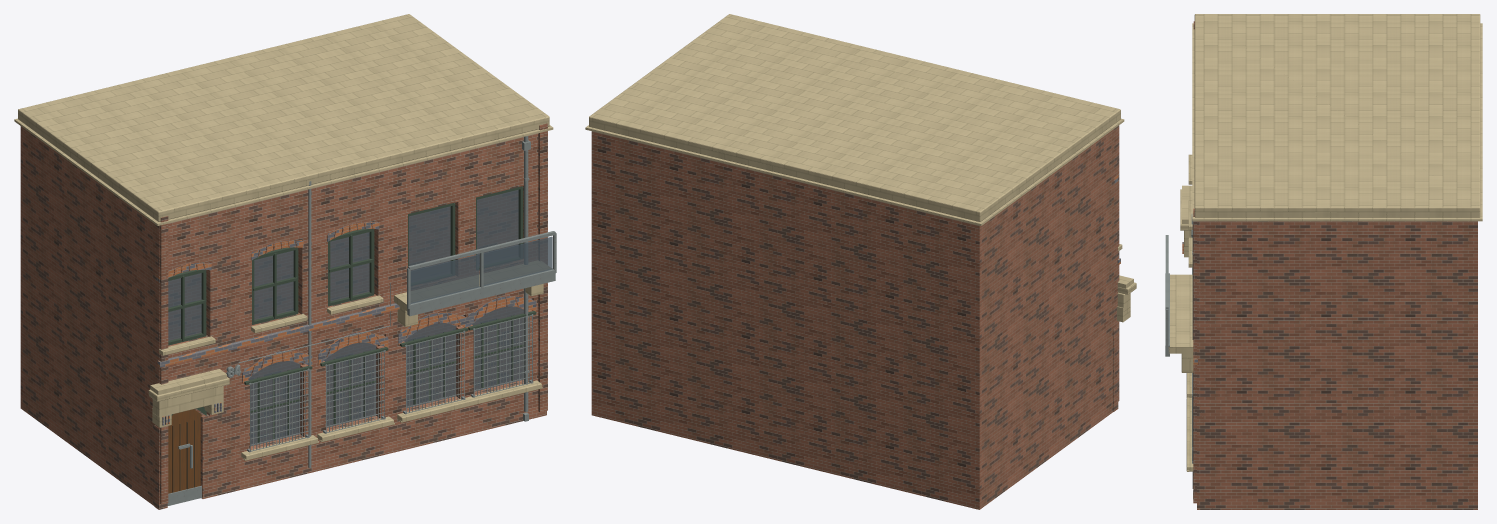
Rendered from come_through_lab.glb.
3 views of the same model, side by side, from view 1: azimuth 30°, elevation 25°; view 2: azimuth 150°, elevation 25°; view 3: azimuth 270°, elevation 25° (orthographic).
Visible parts, largest first — view 1: CTL_Parapet_Cap, CTL_BuildingShell_Rear, CTL_Facade_UpperHead_01, CTL_Facade_Base_02, CTL_Facade_GroundHead_01, CTL_Facade_UpperOpenings_02, CTL_WindowGlass_Ground03, CTL_WindowGlass_Ground04, CTL_WindowGlass_Ground02, CTL_WindowGlass_Ground01, CTL_BalconyDoor_01_Glass, CTL_BalconyDoor_02_Glass (+37 smaller); view 2: CTL_BuildingShell_Rear, CTL_Parapet_Cap, CTL_Parapet_DripLip; view 3: CTL_BuildingShell_Rear, CTL_Parapet_Cap, CTL_Parapet_DripLip, CTL_Balcony_Slab, CTL_Facade_GroundOpenings_06, CTL_Facade_UpperOpenings_06, CTL_EndPier_Right, CTL_Facade_UpperHead_01, CTL_Facade_Base_02, CTL_Facade_GroundHead_01, CTL_Downpipe_Body.
Part boxes in pixels (x1=…): CTL_Parapet_Cap: x1=18, y1=14, x2=549, y2=221; CTL_BuildingShell_Rear: x1=20, y1=126, x2=523, y2=503; CTL_Facade_UpperHead_01: x1=151, y1=133, x2=538, y2=274; CTL_Facade_Base_02: x1=210, y1=379, x2=546, y2=496; CTL_Facade_GroundHead_01: x1=151, y1=288, x2=538, y2=384; CTL_Facade_UpperOpenings_02: x1=206, y1=252, x2=251, y2=336; CTL_WindowGlass_Ground03: x1=404, y1=323, x2=456, y2=407; CTL_WindowGlass_Ground04: x1=472, y1=306, x2=523, y2=391; CTL_WindowGlass_Ground02: x1=324, y1=342, x2=376, y2=427; CTL_WindowGlass_Ground01: x1=248, y1=361, x2=300, y2=445; CTL_BalconyDoor_01_Glass: x1=409, y1=206, x2=450, y2=282; CTL_BalconyDoor_02_Glass: x1=477, y1=189, x2=518, y2=266; CTL_BuildingShell_Rear: x1=591, y1=131, x2=1110, y2=509; CTL_Parapet_Cap: x1=589, y1=14, x2=1120, y2=221; CTL_Parapet_DripLip: x1=585, y1=118, x2=1124, y2=225; CTL_BuildingShell_Rear: x1=1213, y1=221, x2=1477, y2=509; CTL_Parapet_Cap: x1=1194, y1=14, x2=1480, y2=217; CTL_Parapet_DripLip: x1=1192, y1=23, x2=1482, y2=221; CTL_Balcony_Slab: x1=1168, y1=274, x2=1193, y2=353; CTL_Facade_GroundOpenings_06: x1=1197, y1=387, x2=1212, y2=475; CTL_Facade_UpperOpenings_06: x1=1197, y1=271, x2=1212, y2=347; CTL_EndPier_Right: x1=1193, y1=208, x2=1196, y2=503; CTL_Facade_UpperHead_01: x1=1197, y1=221, x2=1212, y2=271; CTL_Facade_Base_02: x1=1197, y1=475, x2=1212, y2=509; CTL_Facade_GroundHead_01: x1=1197, y1=361, x2=1212, y2=387; CTL_Downpipe_Body: x1=1192, y1=224, x2=1193, y2=488.
Bounding box in the file's own units: 10.06 × 7.15 × 6.78.
Materials: 8 (7 with a texture image).
